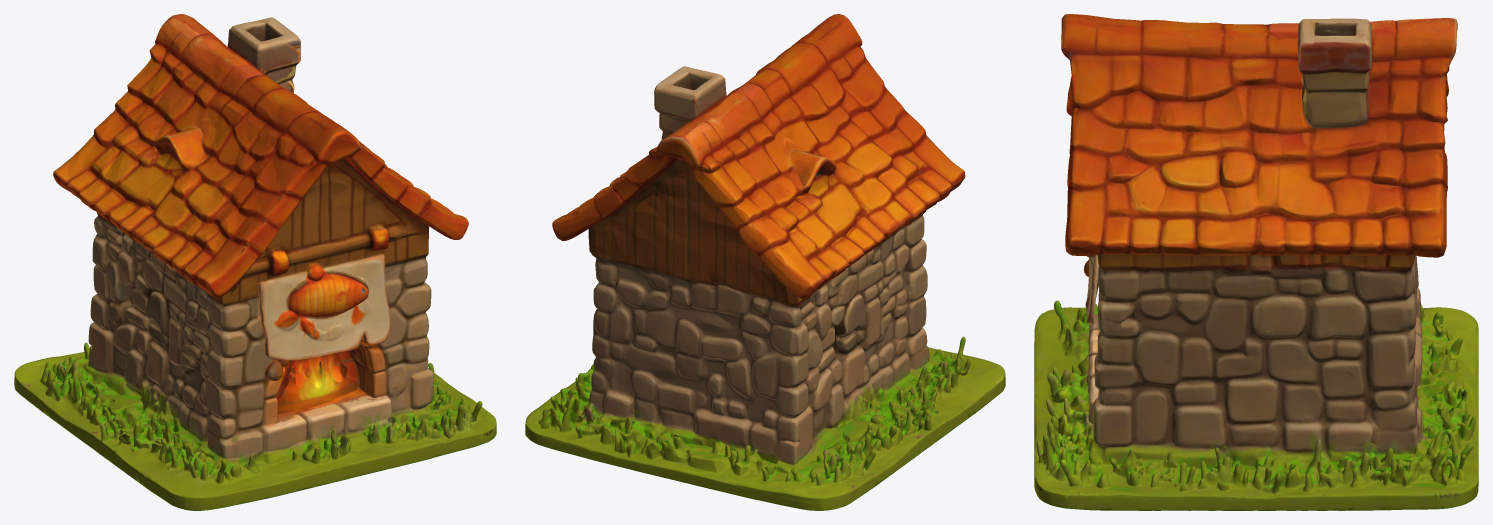
Rendered from fishworkshop.glb.
3 renders of one model, left to right at view 1: azimuth 30°, elevation 25°; view 2: azimuth 150°, elevation 25°; view 3: azimuth 270°, elevation 25°, orthographic. The views are drawn at different scales.
Size of the model in its own units: 1.94 by 1.99 by 1.94.
Materials: 1 (1 with a texture image).
